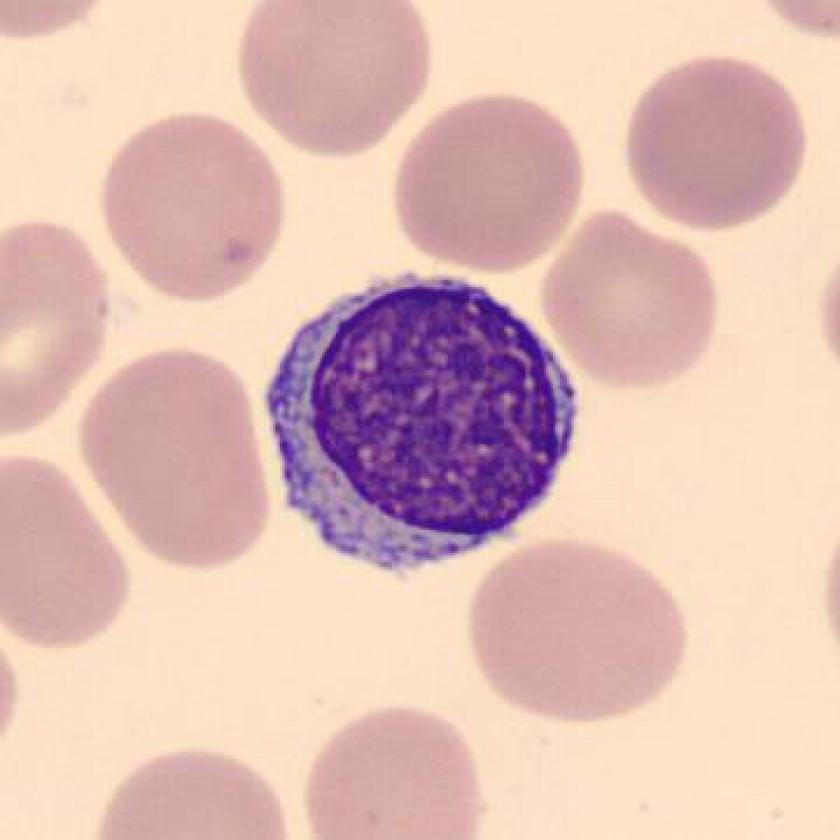lymphocyte: (246, 253, 589, 598)
